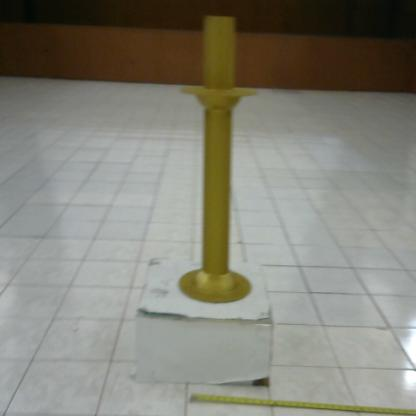pole: (166, 10, 261, 310)
